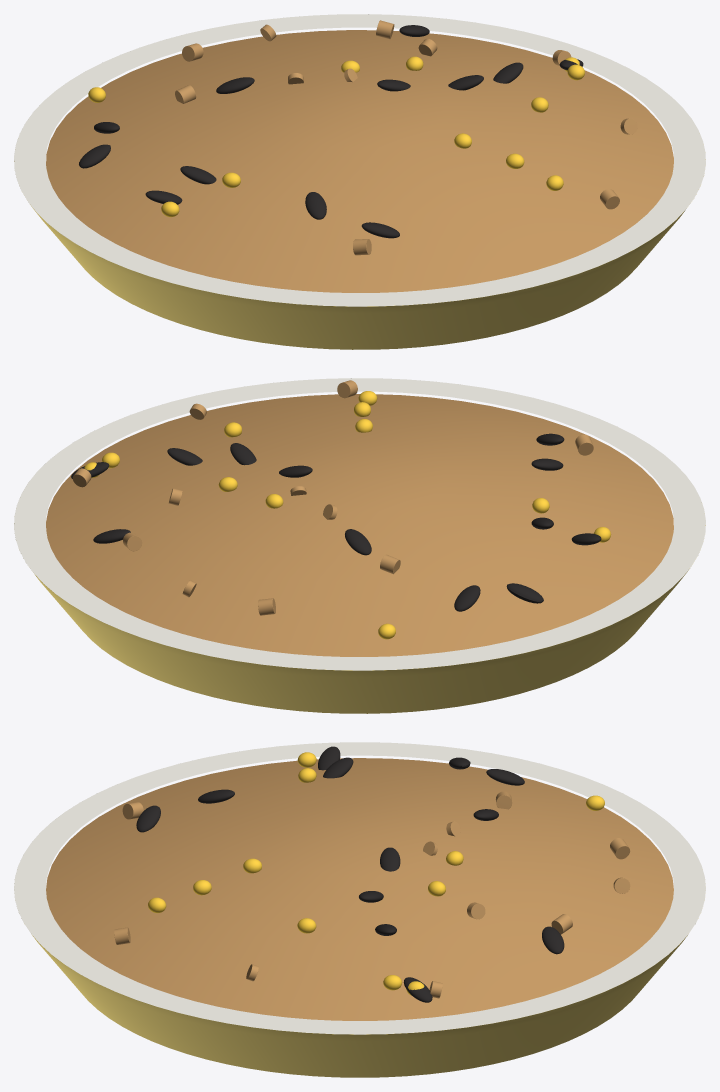
Rendered from seed_bowl.glb.
3 views of the same model, one above another, from view 1: azimuth 30°, elevation 25°; view 2: azimuth 150°, elevation 25°; view 3: azimuth 270°, elevation 25° (orthographic).
Visible parts, largest first — view 1: seed_bowl.001; view 2: seed_bowl.001; view 3: seed_bowl.001.
Part boxes in pixels (x1=…): seed_bowl.001: x1=14, y1=14, x2=705, y2=349; seed_bowl.001: x1=14, y1=378, x2=705, y2=713; seed_bowl.001: x1=14, y1=742, x2=705, y2=1077.
Size of the model in its own units: 26 by 5.13 by 26.
